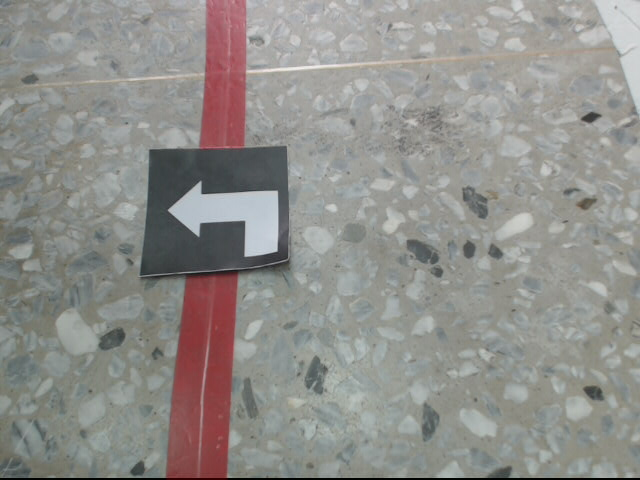left: (141, 146, 292, 277)
